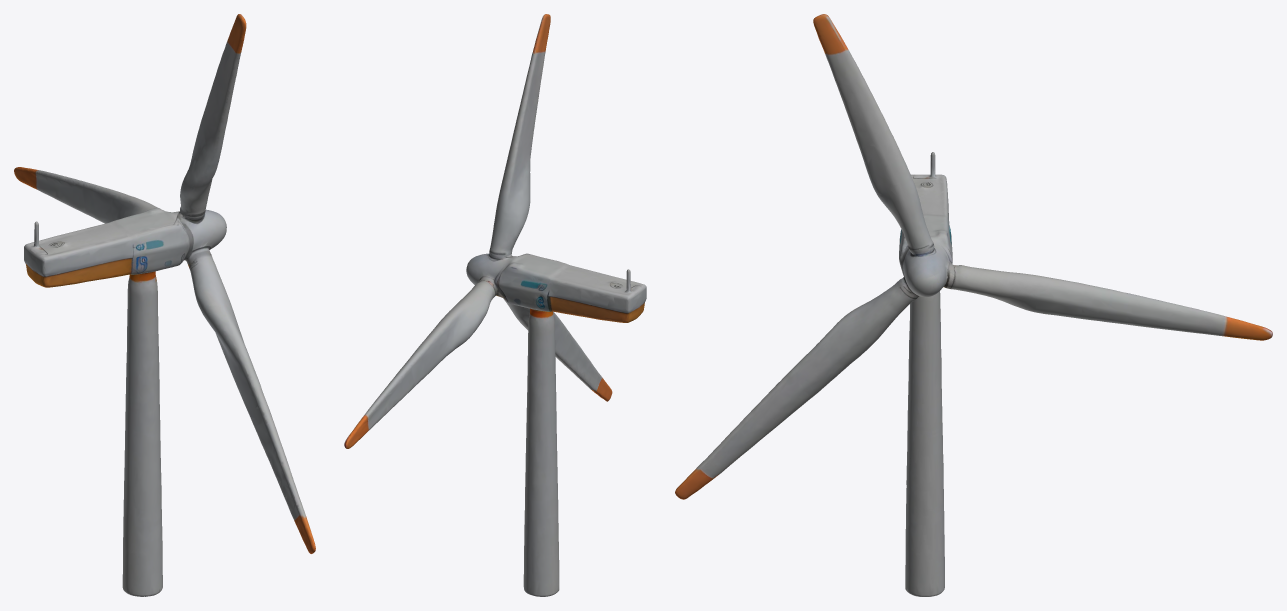
Rendered from wind_turbine.glb.
3 renders of one model, left to right at view 1: azimuth 30°, elevation 25°; view 2: azimuth 150°, elevation 25°; view 3: azimuth 270°, elevation 25°, orthographic. The views are drawn at different scales.
Parts seen in each view (by area): view 1: tripo_node_835f1bcb-6b32-4bd3-842f-079218da7f03; view 2: tripo_node_835f1bcb-6b32-4bd3-842f-079218da7f03; view 3: tripo_node_835f1bcb-6b32-4bd3-842f-079218da7f03.
Part boxes in pixels (x1,y1,x2,y2): tripo_node_835f1bcb-6b32-4bd3-842f-079218da7f03: (14, 14, 315, 596); tripo_node_835f1bcb-6b32-4bd3-842f-079218da7f03: (344, 14, 646, 596); tripo_node_835f1bcb-6b32-4bd3-842f-079218da7f03: (675, 14, 1272, 596).
Bounding box in the file's own units: 0.3176 × 0.947 × 0.8581.
Materials: 1 (1 with a texture image).
